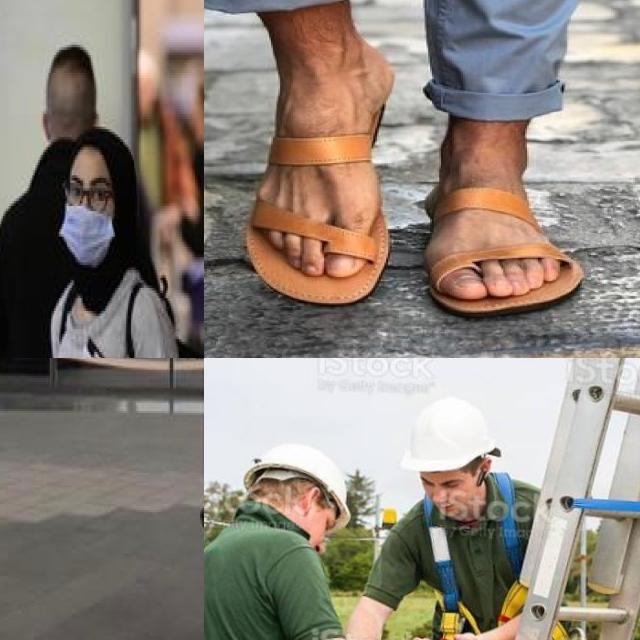Harness: (485, 470, 573, 640), (423, 499, 463, 640)
Sandals: (244, 34, 393, 302), (418, 130, 585, 317)
face_mask: (56, 170, 113, 262)
glasses: (62, 180, 109, 217)
head_nohelmet: (38, 42, 115, 122), (70, 124, 133, 175)
person: (0, 32, 161, 358), (18, 121, 193, 358)
